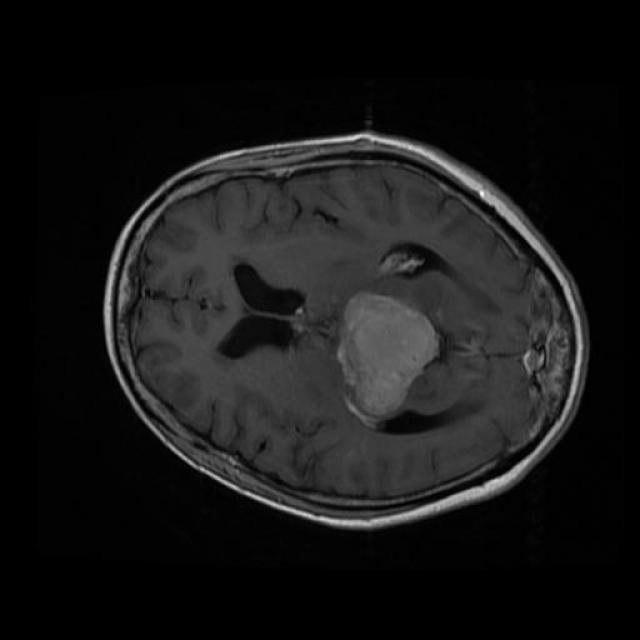Meningioma: (337, 292, 439, 427)
